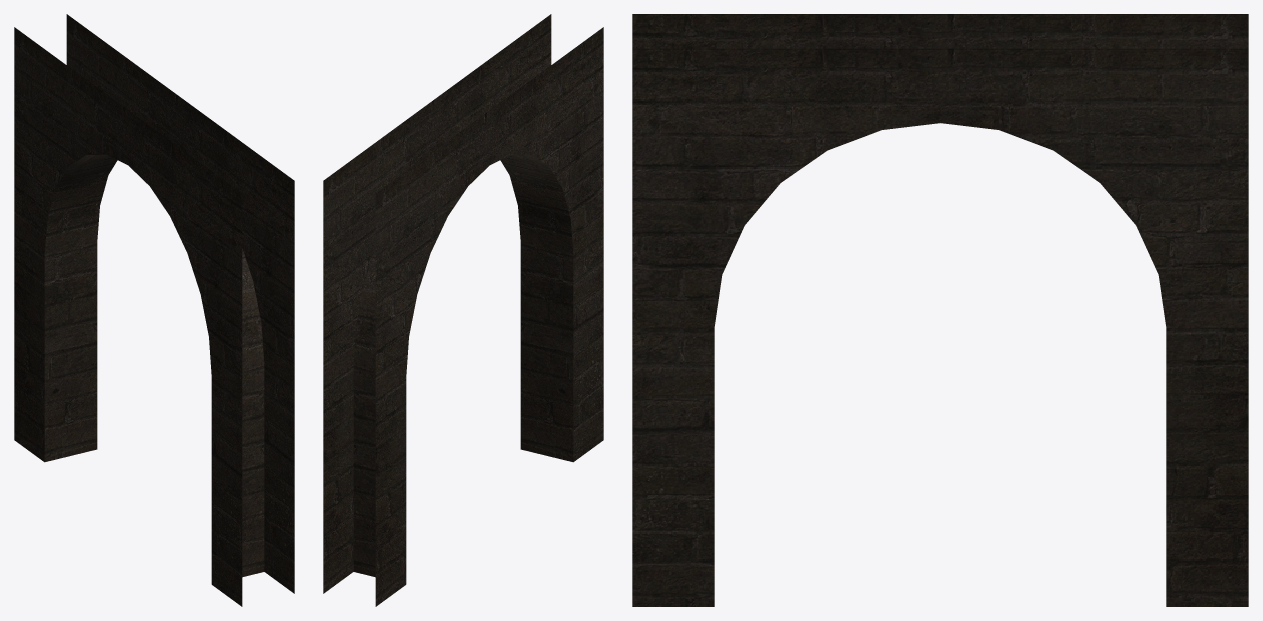
File: arc_2_wall_1_plain.glb
The picture shows the model from 3 angles, left to right: view 1: azimuth 30°, elevation 25°; view 2: azimuth 150°, elevation 25°; view 3: azimuth 270°, elevation 25°; orthographic projection. The views are drawn at different scales.
Parts seen in each view (by area): view 1: arc_2_wall_1_plain; view 2: arc_2_wall_1_plain; view 3: arc_2_wall_1_plain.
Boxes of the visible parts, box(x1,y1,x2,y2) form: arc_2_wall_1_plain: box(14, 14, 294, 606); arc_2_wall_1_plain: box(323, 14, 603, 606); arc_2_wall_1_plain: box(632, 14, 1248, 606).
Size of the model in its own units: 0.4 by 3 by 3.
1 material, 1 textured.
